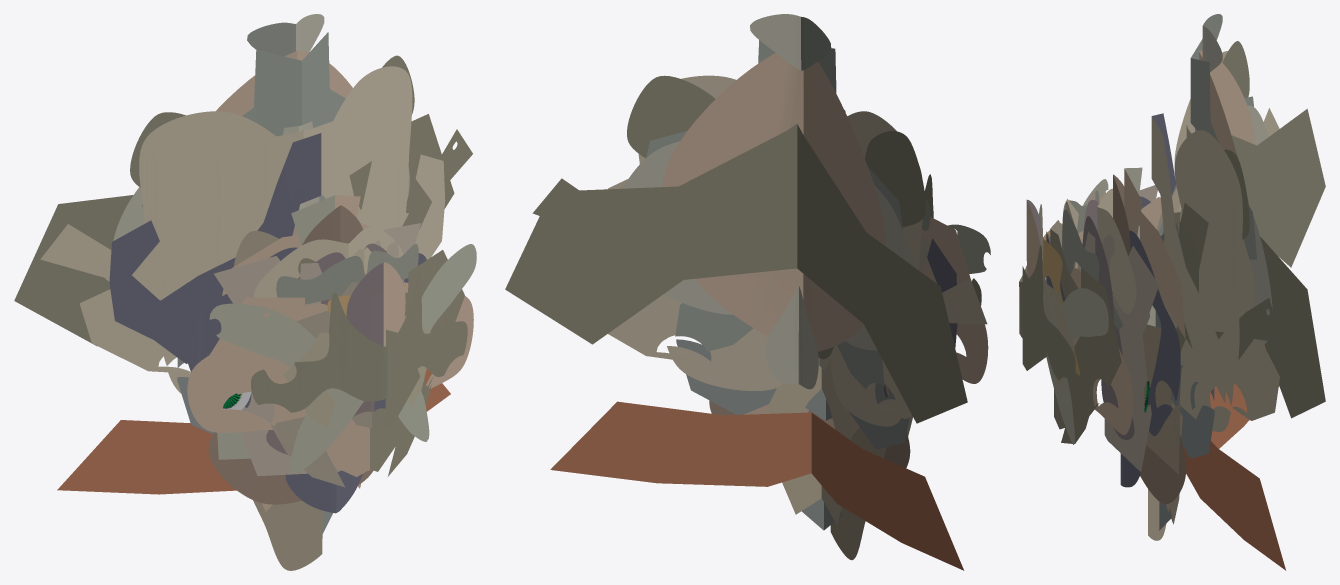
The model's file is totem4.glb.
3 renders of one model, left to right at view 1: azimuth 30°, elevation 25°; view 2: azimuth 150°, elevation 25°; view 3: azimuth 270°, elevation 25°, orthographic. The views are drawn at different scales.
Visible parts, largest first — view 1: RENDER_BASE; view 2: RENDER_BASE; view 3: RENDER_BASE.
Boxes of the visible parts, box(x1,y1,x2,y2) form: RENDER_BASE: box(14, 14, 476, 570); RENDER_BASE: box(505, 14, 990, 570); RENDER_BASE: box(1019, 14, 1325, 570).
Size of the model in its own units: 6.72 by 7.7 by 4.05.
